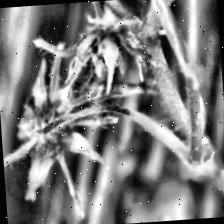Gray Mold: (0, 39, 123, 221)
